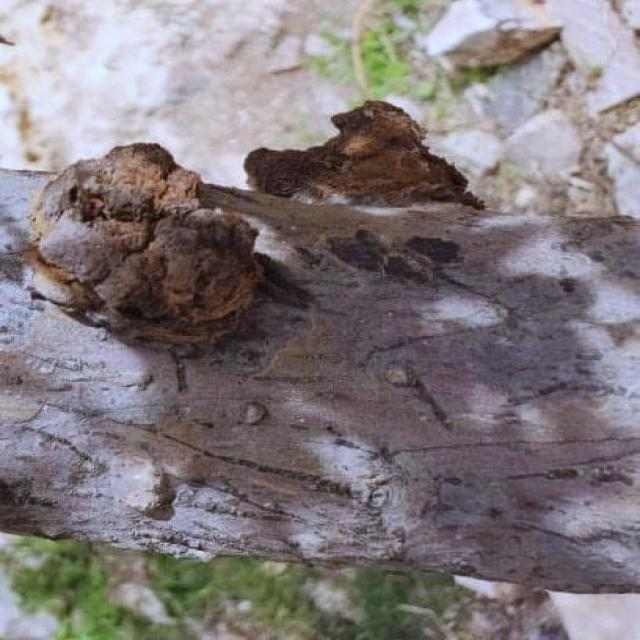Tuberculosis: (23, 144, 264, 356), (245, 100, 483, 210)
